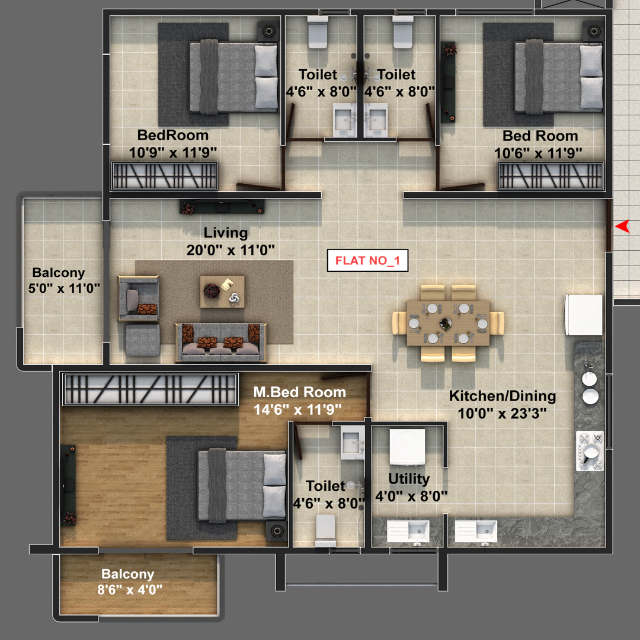door: (234, 144, 285, 192), (438, 145, 486, 193), (291, 421, 336, 461), (395, 101, 437, 141), (284, 102, 326, 141), (586, 198, 612, 253)
